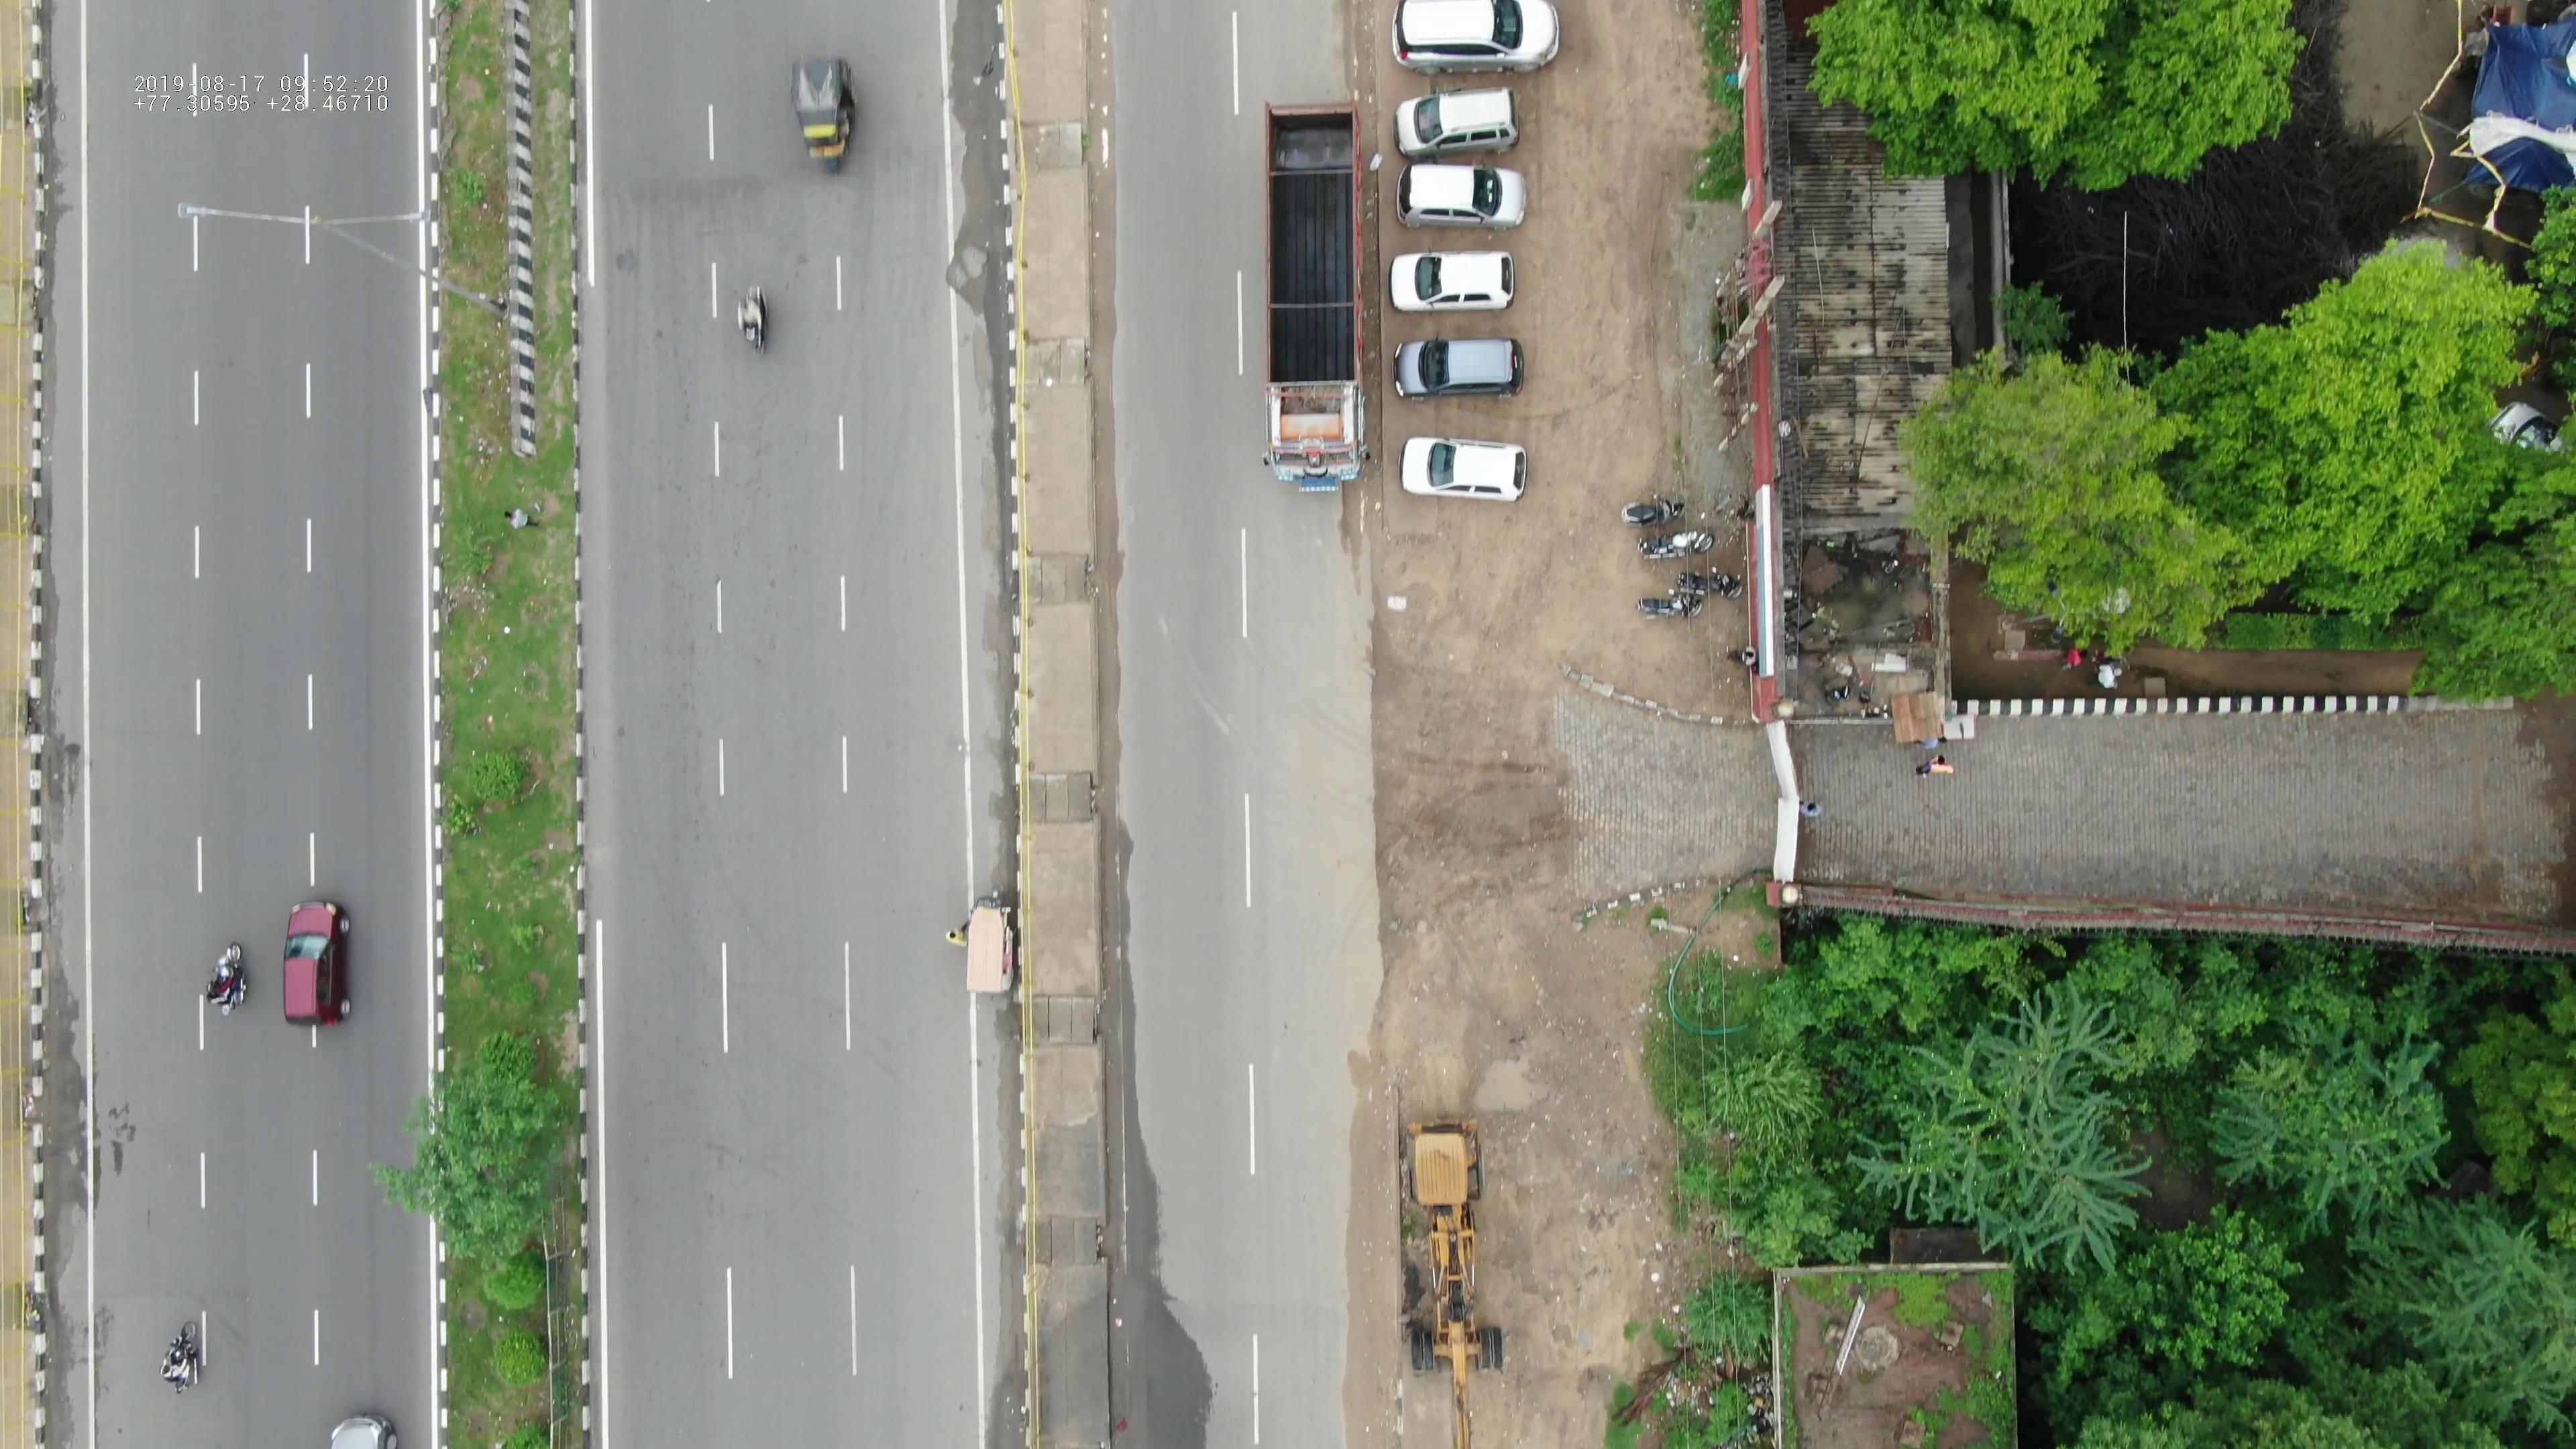Muddy_road: (1327, 1067, 1407, 1437)
